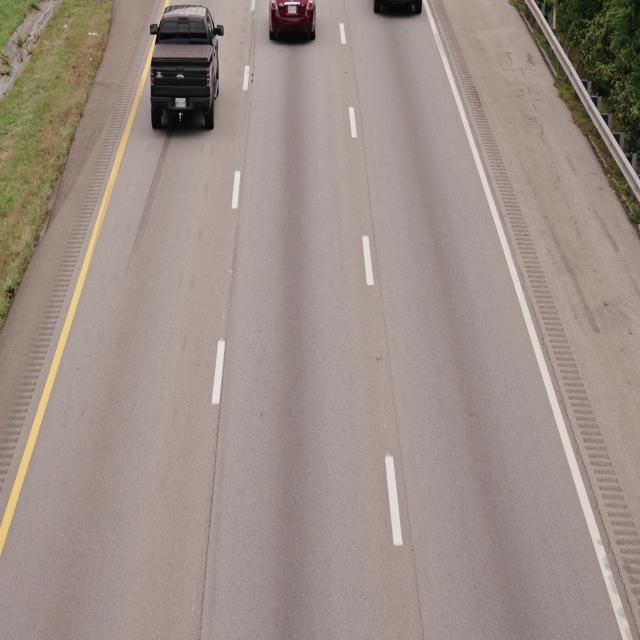Car: (259, 0, 321, 53)
Truck: (139, 0, 229, 145)
